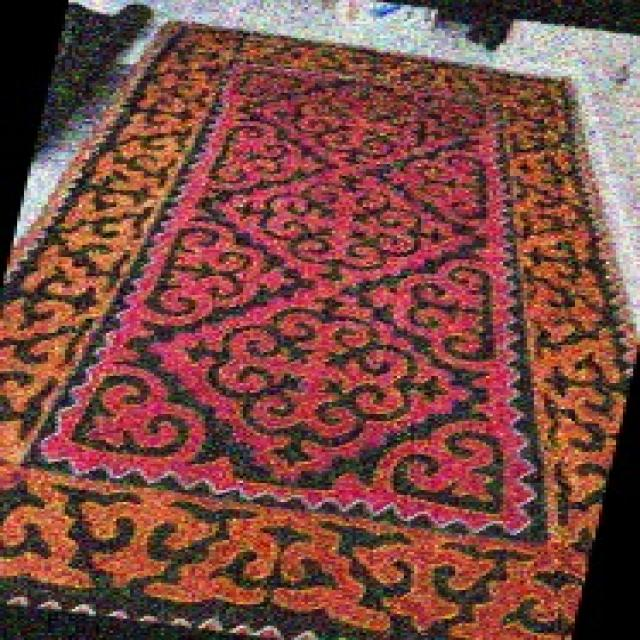Unity: (167, 288, 465, 471), (222, 169, 467, 293), (134, 206, 303, 346), (350, 248, 482, 377), (204, 111, 328, 202), (377, 139, 478, 240)
